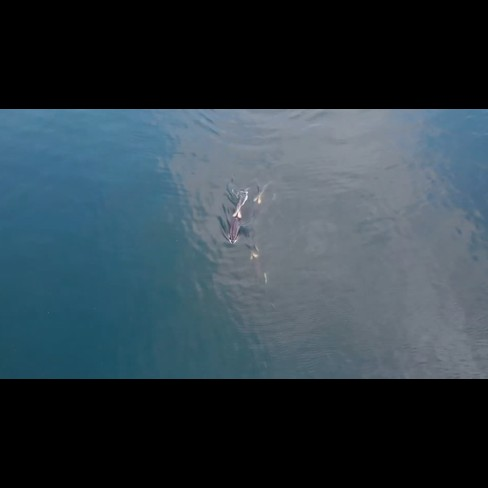orca: (223, 176, 254, 254)
